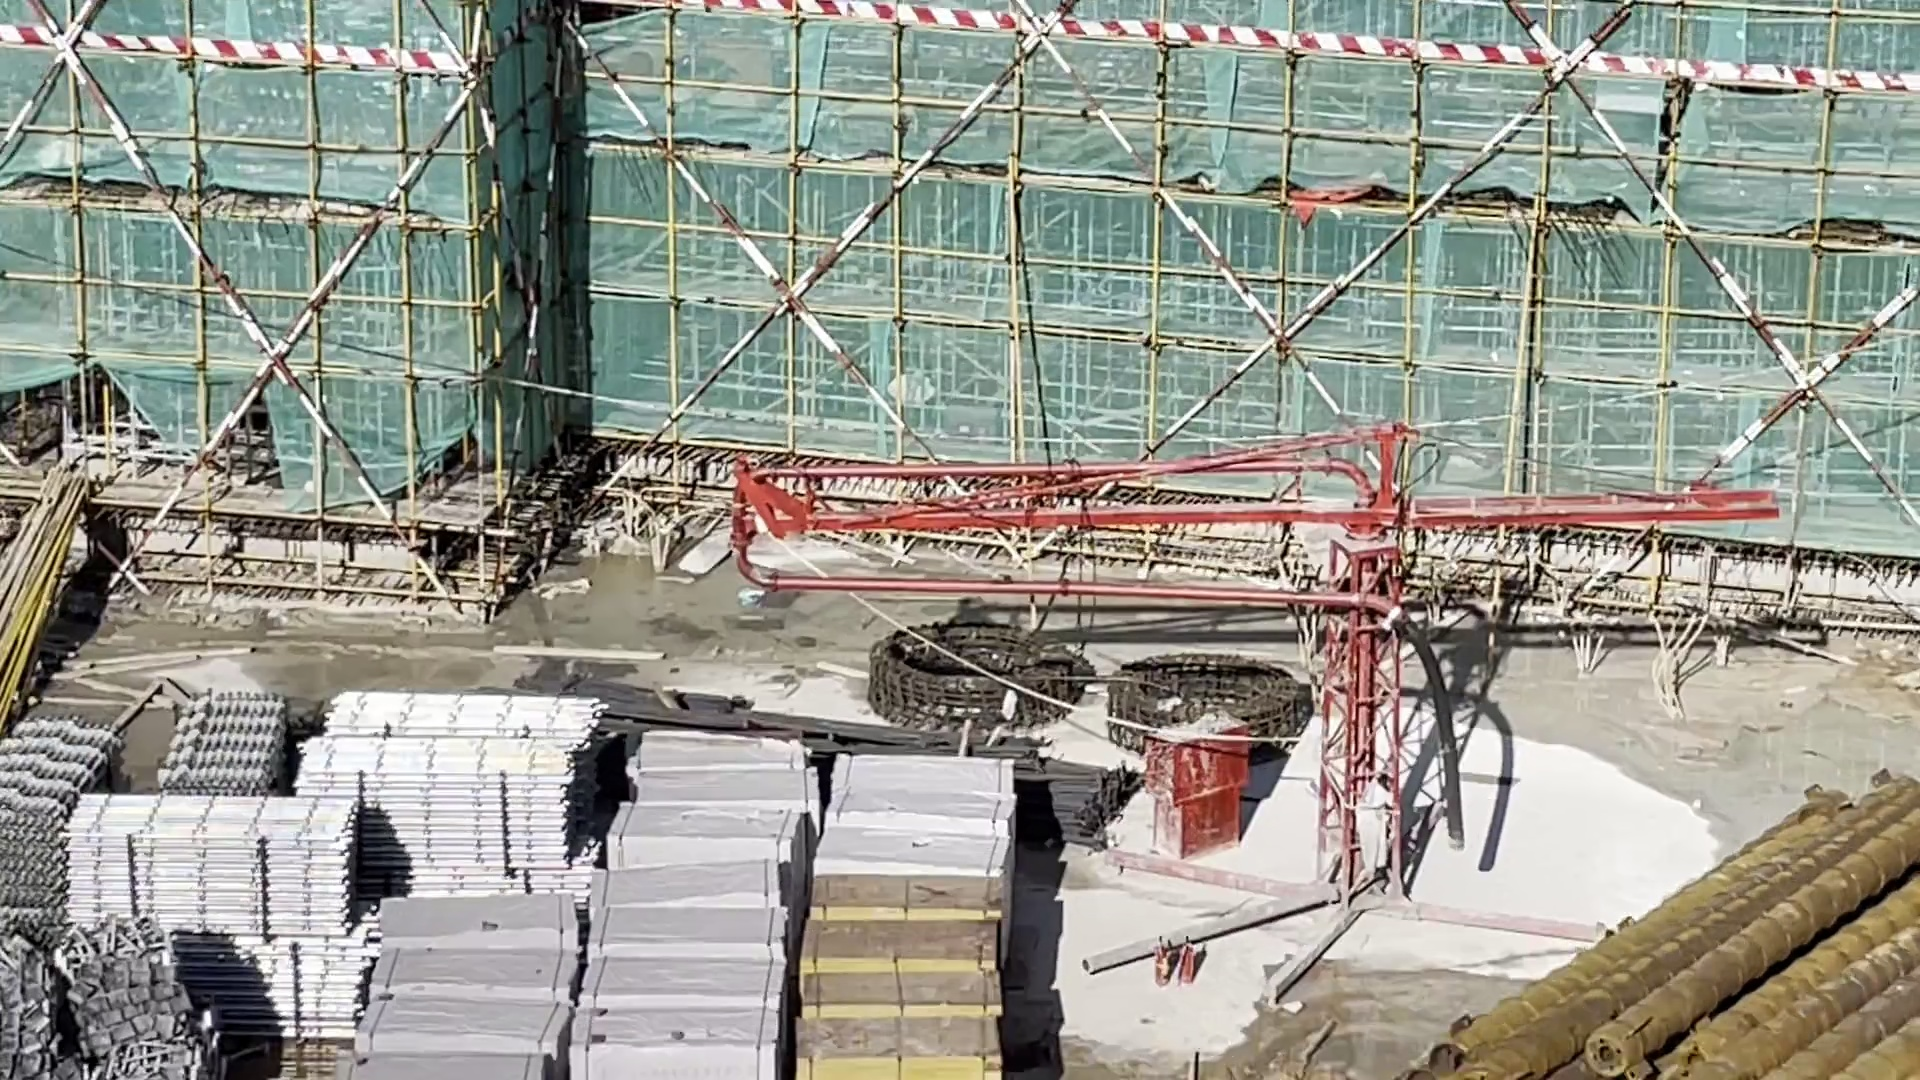board: (796, 1029, 1022, 1080), (799, 916, 981, 977), (808, 880, 1026, 928), (806, 963, 994, 1015)
rebar: (1378, 765, 1920, 1065), (560, 678, 856, 752), (1051, 756, 1131, 851)
scaffold: (76, 822, 371, 1022), (336, 707, 560, 864), (24, 729, 113, 922), (173, 712, 258, 825)
